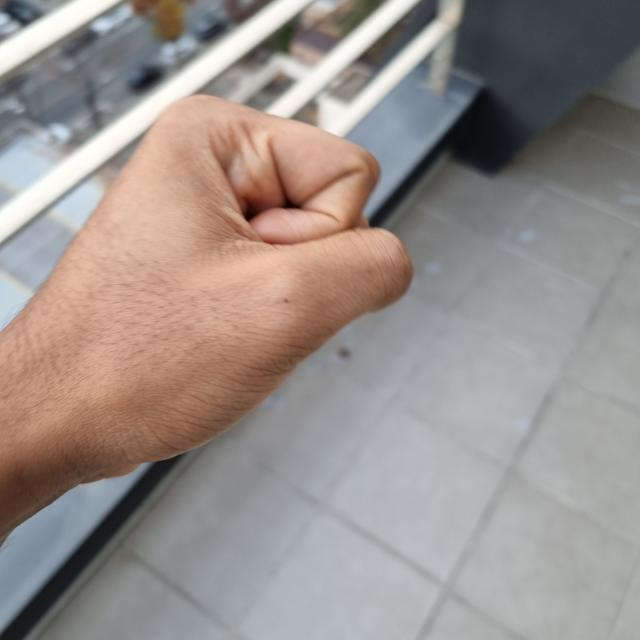Rock: (5, 95, 407, 462)
